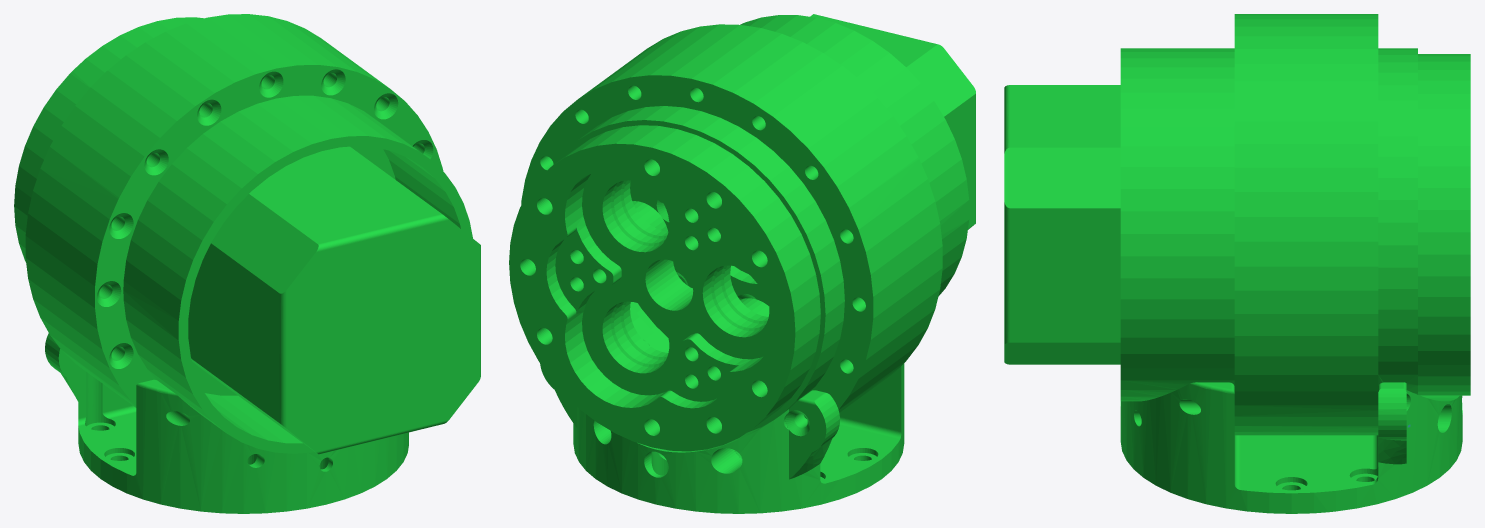
3 renders of one model, left to right at view 1: azimuth 30°, elevation 25°; view 2: azimuth 150°, elevation 25°; view 3: azimuth 270°, elevation 25°, orthographic. The views are drawn at different scales.
Parts seen in each view (by area): view 1: link1; view 2: link1; view 3: link1.
Part boxes in pixels (x1,y1,x2,y2): link1: (14, 14, 480, 513); link1: (509, 14, 975, 513); link1: (1004, 14, 1470, 513).
Size of the model in its own units: 0.0739 by 0.079 by 0.0818.
Materials: 1 (1 with a texture image).
